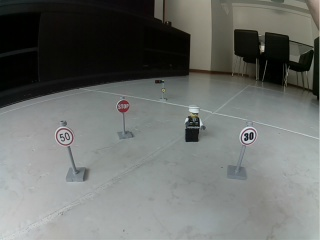Person: (182, 104, 205, 143)
Red Traffic Light: (153, 78, 168, 103)
Speed Limit 30: (240, 127, 257, 147)
Speed Limit 50: (54, 127, 74, 147)
Stop Sign: (116, 100, 130, 114)
